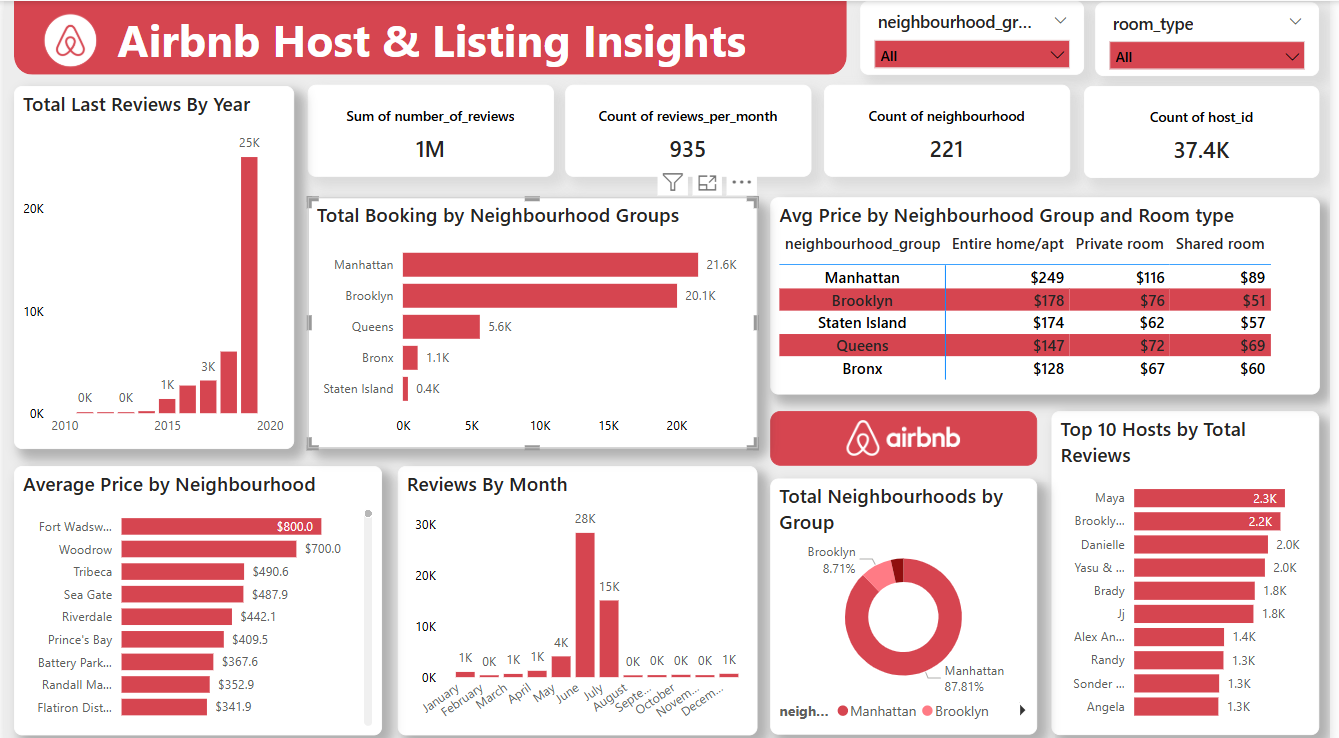

This screenshot's page, from the dashboard's own definition file:
{"tool":"powerbi","page":{"name":"Page 1","canvas":[1280,720],"ordinal":0},"visuals":[{"type":"slicer","fields":{"Values":["AB_NYC_2019.neighbourhood_group"]},"box":[826.2,0,216.2,71.2],"z":0},{"type":"slicer","fields":{"Values":["AB_NYC_2019.room_type"]},"box":[1053.8,1.2,216.2,71.2],"z":1000},{"type":"cardVisual","fields":{"Data":["AB_NYC_2019.number_of_reviews"]},"box":[293.8,81.2,237.5,88.8],"z":2000},{"type":"cardVisual","fields":{"Data":["AB_NYC_2019.reviews_per_month"]},"box":[541.2,81.2,237.5,88.8],"z":3000},{"type":"cardVisual","fields":{"Data":["AB_NYC_2019.neighbourhood"]},"box":[791.2,81.2,237.5,88.8],"z":4000},{"type":"cardVisual","fields":{"Data":["AB_NYC_2019.host_id"]},"box":[1042.5,82.5,227.5,88.8],"z":5000},{"type":"clusteredColumnChart","title":"Total Last Reviews By Year","fields":{"Category":["AB_NYC_2019.last_review.Variation.Date Hierarchy.Year"],"Y":["AB_NYC_2019.last_review"]},"box":[10,82.5,270,350],"z":6000},{"type":"clusteredColumnChart","title":"Reviews By Month","fields":{"Category":["AB_NYC_2019.last_review.Variation.Date Hierarchy.Month"],"Y":["AB_NYC_2019.reviews_per_month"]},"box":[380,448.8,347.5,260],"z":7000},{"type":"clusteredBarChart","title":"Total Booking by Neighbourhood Groups","fields":{"Category":["AB_NYC_2019.neighbourhood_group"],"Y":["AB_NYC_2019.host_name"]},"box":[293.8,190,433.8,242.5],"z":8000},{"type":"clusteredBarChart","title":"Average Price by Neighbourhood","fields":{"Y":["AB_NYC_2019.price"],"Category":["AB_NYC_2019.neighbourhood"]},"box":[10,448.8,355,260],"z":9000},{"type":"clusteredBarChart","title":"Top 10 Hosts by Total Reviews","fields":{"Category":["AB_NYC_2019.host_name"],"Y":["AB_NYC_2019.number_of_reviews"]},"box":[1011.2,396.2,258.8,312.5],"z":10000},{"type":"donutChart","title":"Total Neighbourhoods by Group","fields":{"Category":["AB_NYC_2019.neighbourhood_group"],"Y":["AB_NYC_2019.neighbourhood"]},"box":[740,461.2,257.5,247.5],"z":11000},{"type":"pivotTable","title":"Avg Price by Neighbourhood Group and Room type","fields":{"Values":["AB_NYC_2019.price"],"Rows":["AB_NYC_2019.neighbourhood_group"],"Columns":["AB_NYC_2019.room_type"]},"box":[740,190,530,190],"z":12000},{"type":"shape","box":[10,0,803.8,71.2],"z":13000},{"type":"image","box":[740,396.2,257.5,52.5],"z":14000},{"type":"textbox","box":[22.5,2.5,780,70],"z":15000},{"type":"image","box":[22.5,2.5,82.5,71.2],"z":16000}]}

Visuals, with their boxes in screenshot pixels (x1, y1, x2, y2), scaled from the page's 1280x720 canvas onto the 1339x738 screenshot:
slicer - AB_NYC_2019.neighbourhood_group: x1=864, y1=0, x2=1090, y2=73
slicer - AB_NYC_2019.room_type: x1=1102, y1=1, x2=1329, y2=74
cardVisual - AB_NYC_2019.number_of_reviews: x1=307, y1=83, x2=556, y2=174
cardVisual - AB_NYC_2019.reviews_per_month: x1=566, y1=83, x2=815, y2=174
cardVisual - AB_NYC_2019.neighbourhood: x1=828, y1=83, x2=1076, y2=174
cardVisual - AB_NYC_2019.host_id: x1=1091, y1=85, x2=1329, y2=176
"Total Last Reviews By Year" clusteredColumnChart: x1=10, y1=85, x2=293, y2=443
"Reviews By Month" clusteredColumnChart: x1=398, y1=460, x2=761, y2=727
"Total Booking by Neighbourhood Groups" clusteredBarChart: x1=307, y1=195, x2=761, y2=443
"Average Price by Neighbourhood" clusteredBarChart: x1=10, y1=460, x2=382, y2=727
"Top 10 Hosts by Total Reviews" clusteredBarChart: x1=1058, y1=406, x2=1329, y2=726
"Total Neighbourhoods by Group" donutChart: x1=774, y1=473, x2=1043, y2=726
"Avg Price by Neighbourhood Group and Room type" pivotTable: x1=774, y1=195, x2=1329, y2=389
shape: x1=10, y1=0, x2=851, y2=73
image: x1=774, y1=406, x2=1043, y2=460
textbox: x1=24, y1=3, x2=839, y2=74
image: x1=24, y1=3, x2=110, y2=76
